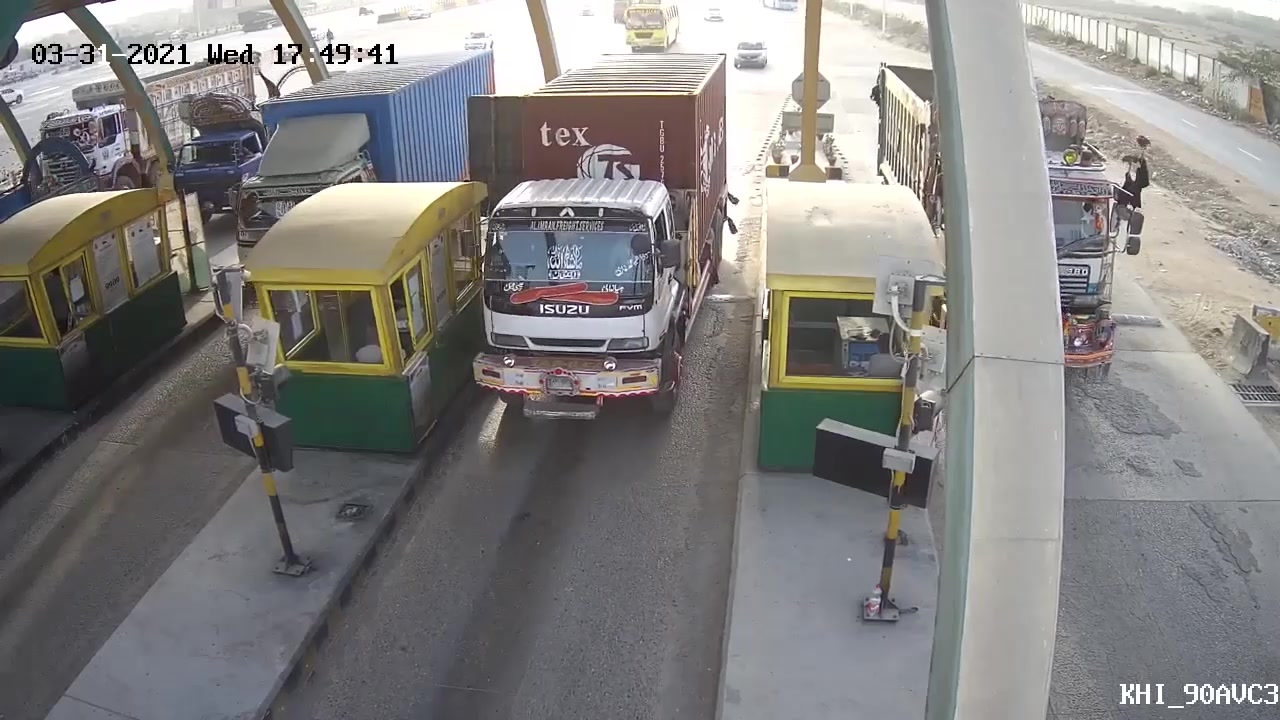F5: (456, 40, 740, 464)
